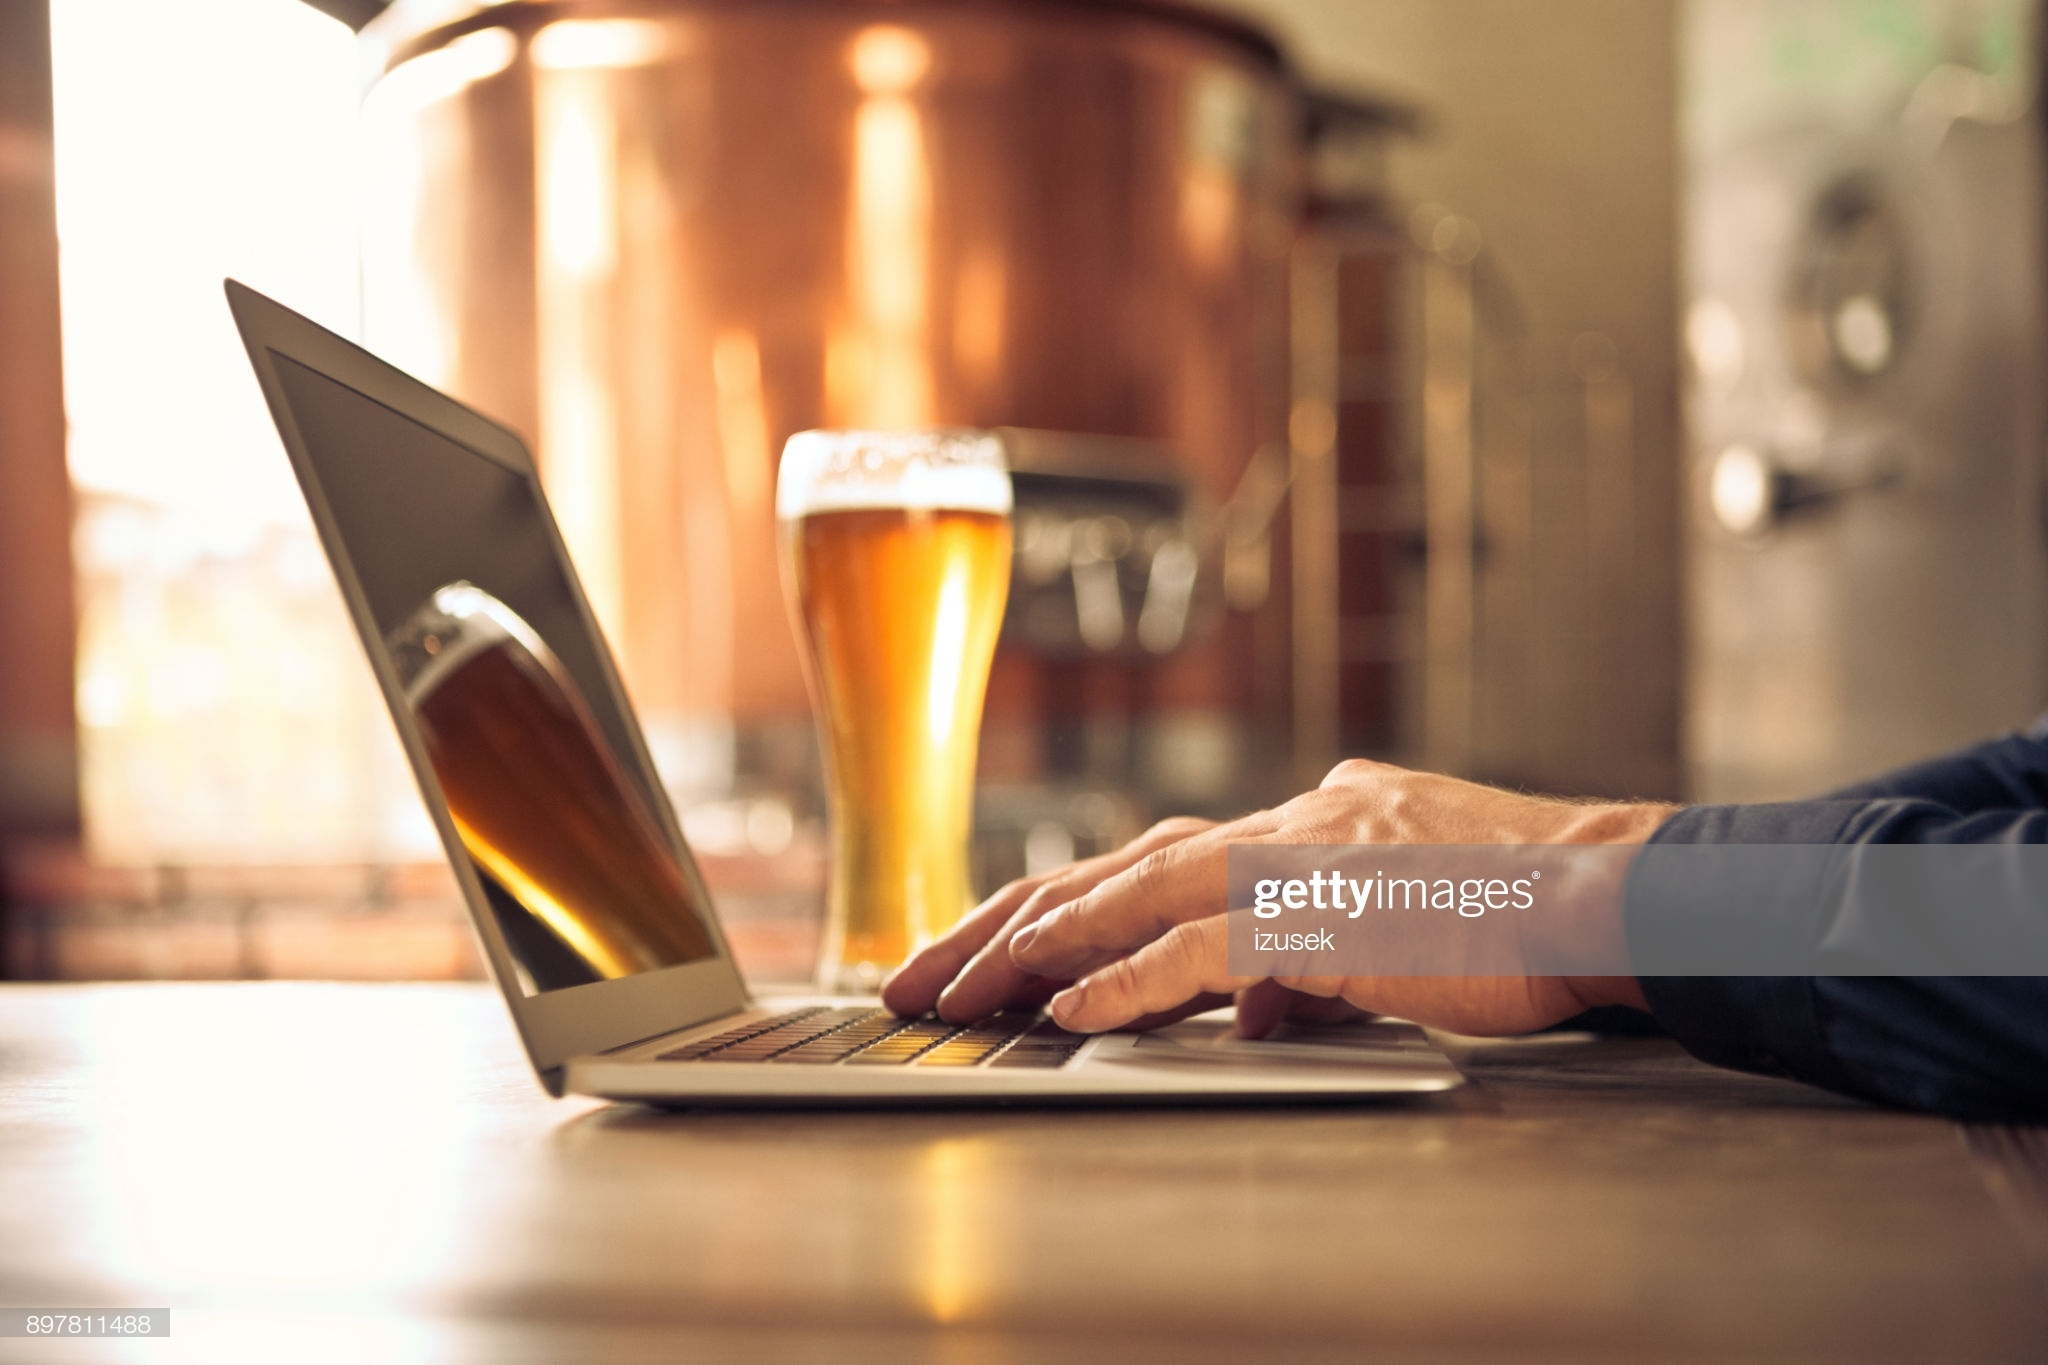glassBeer: (802, 414, 1026, 980)
